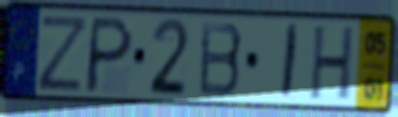2: (150, 16, 192, 100)
B: (197, 19, 245, 99)
H: (307, 23, 357, 104)
I: (278, 21, 302, 102)
P: (82, 14, 137, 97)
Z: (36, 12, 91, 95)
